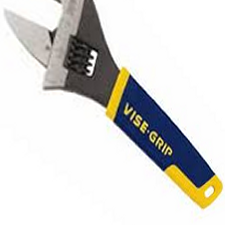Wrench: (2, 2, 225, 206)
